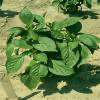Bell_pepper leaf spot: (47, 57, 77, 76), (4, 54, 26, 77), (19, 73, 41, 93), (61, 46, 79, 69), (58, 14, 85, 29), (33, 36, 58, 52), (30, 63, 48, 77), (12, 38, 32, 48), (4, 43, 15, 60), (33, 52, 48, 63), (67, 41, 80, 50)
